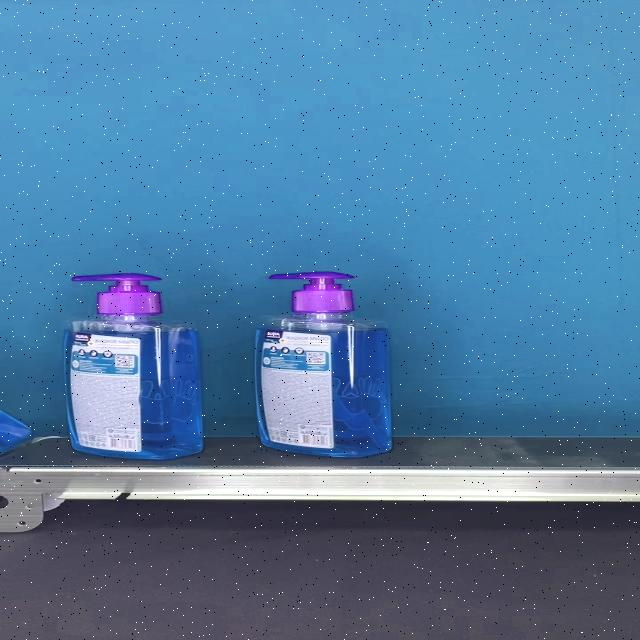Bottle: (63, 274, 203, 459), (255, 272, 392, 458)
Cap: (72, 274, 163, 316), (268, 272, 356, 314)
